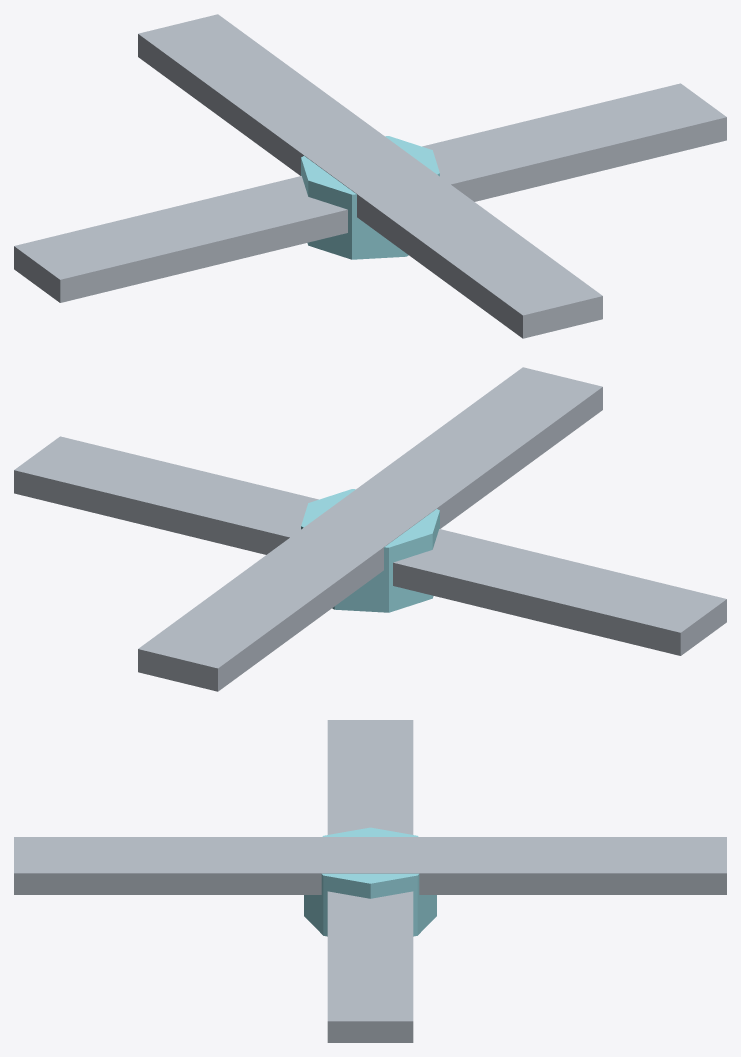
The model's file is dron_helice.glb.
The picture shows the model from 3 angles, top to bottom: view 1: azimuth 30°, elevation 25°; view 2: azimuth 150°, elevation 25°; view 3: azimuth 270°, elevation 25°; orthographic projection. The views are drawn at different scales.
Parts seen in each view (by area): view 1: dron_helice; view 2: dron_helice; view 3: dron_helice.
Part boxes in pixels (x1=…): dron_helice: x1=14, y1=14, x2=726, y2=338; dron_helice: x1=14, y1=367, x2=726, y2=691; dron_helice: x1=14, y1=720, x2=726, y2=1042.
Size of the model in its own units: 0.75 by 0.0705 by 0.75.
